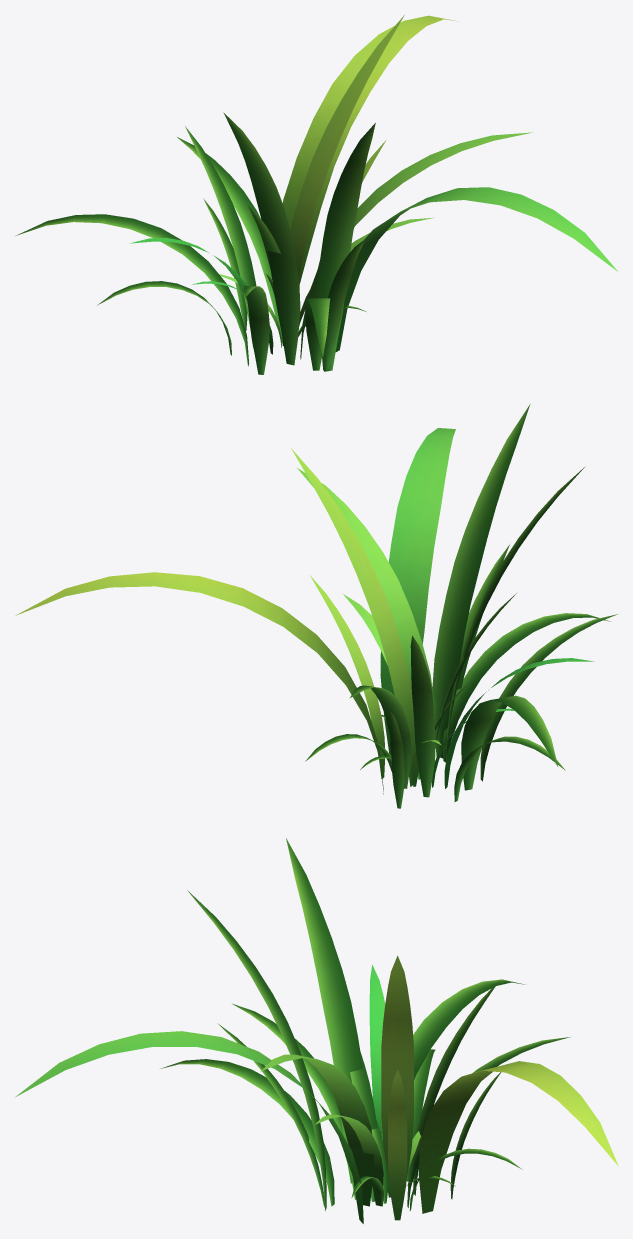
Rendered from grass_v1.glb.
3 views of the same model, one above another, from view 1: azimuth 30°, elevation 25°; view 2: azimuth 150°, elevation 25°; view 3: azimuth 270°, elevation 25° (orthographic). The views are drawn at different scales.
Parts seen in each view (by area): view 1: windy, windy2; view 2: windy, windy2; view 3: windy, windy2, windy3.
Part boxes in pixels (x1=…): windy: x1=15, y1=15, x2=617, y2=374; windy2: x1=97, y1=140, x2=434, y2=370; windy: x1=15, y1=404, x2=617, y2=797; windy2: x1=305, y1=544, x2=565, y2=808; windy: x1=15, y1=838, x2=618, y2=1223; windy2: x1=217, y1=1023, x2=522, y2=1220; windy3: x1=351, y1=1120, x2=455, y2=1206.
Size of the model in its own units: 0.9158 by 0.5411 by 0.9559.
Materials: 1 (1 with a texture image).
